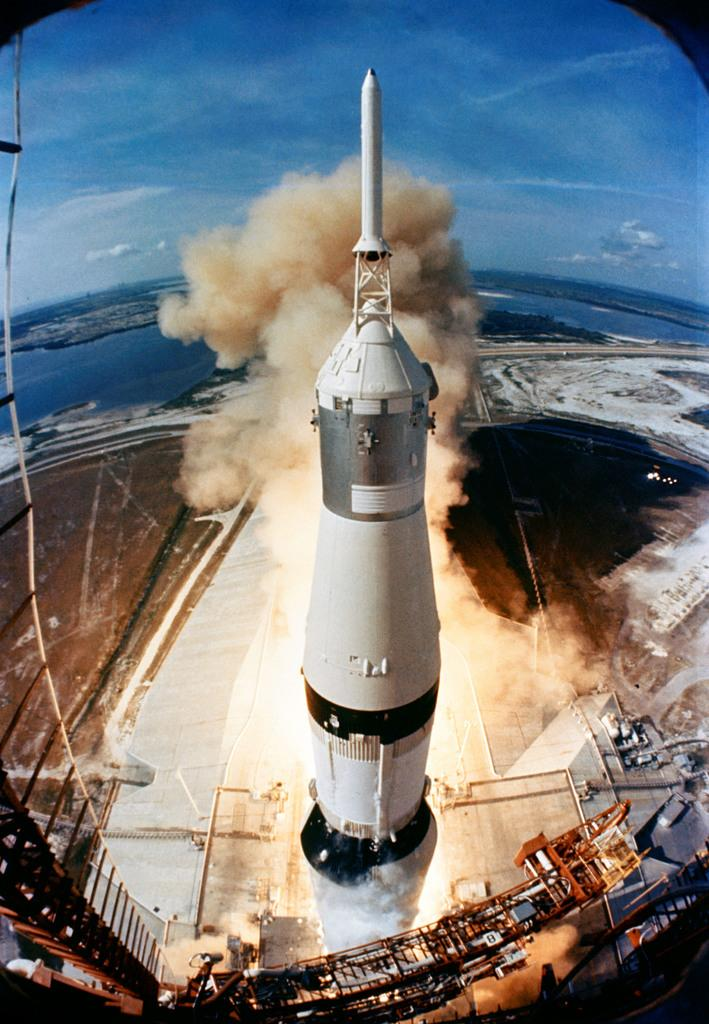Missile: (239, 56, 511, 1002)
